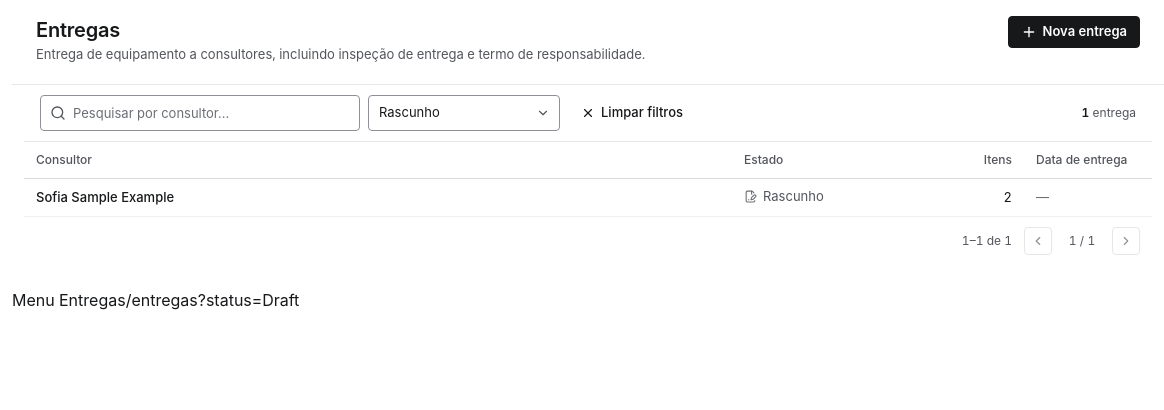
Test: HandoversListPage › reads the status from the URL and follows it when the URL changes (no stale filter)
The width and height of the screenshot is (1164, 410).
Expected: the link "Sofia Sample Example" is shown, [36,189,174,205]
Expected: the dropdown named "Filtrar por estado" shows "Rascunho", [368,95,560,131]
// The sidebar's plain "/entregas" must mean "all", not keep the old filter.
What coordinates should you click on to do the following:
click the link "Menu Entregas"
I would click on:
 (69, 300)
Its box is [12,290,126,310].
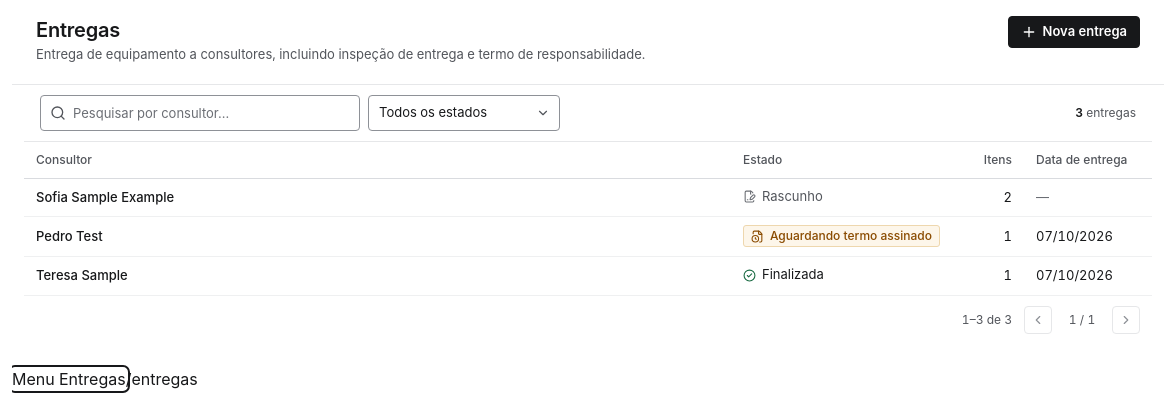
Expected: the link "Pedro Test" is shown, [36,228,103,244]
Expected: the dropdown named "Filtrar por estado" shows "Todos os estados", [368,95,560,131]
